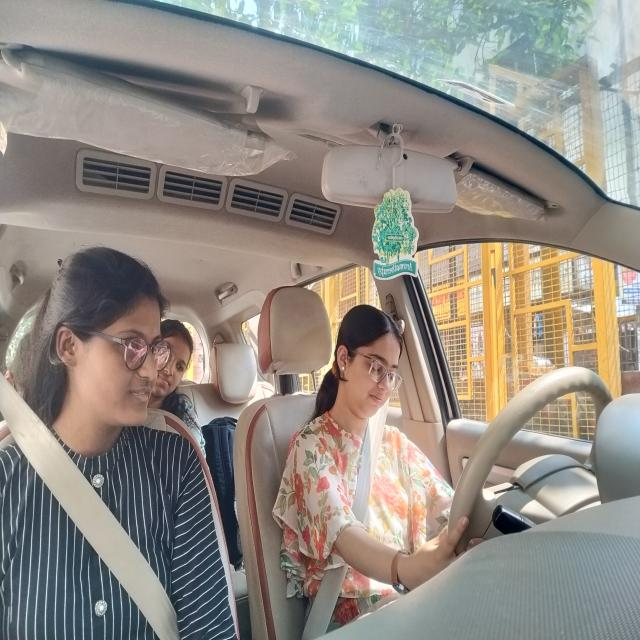drowsy: (326, 294, 412, 454)
person: (29, 220, 170, 456)
